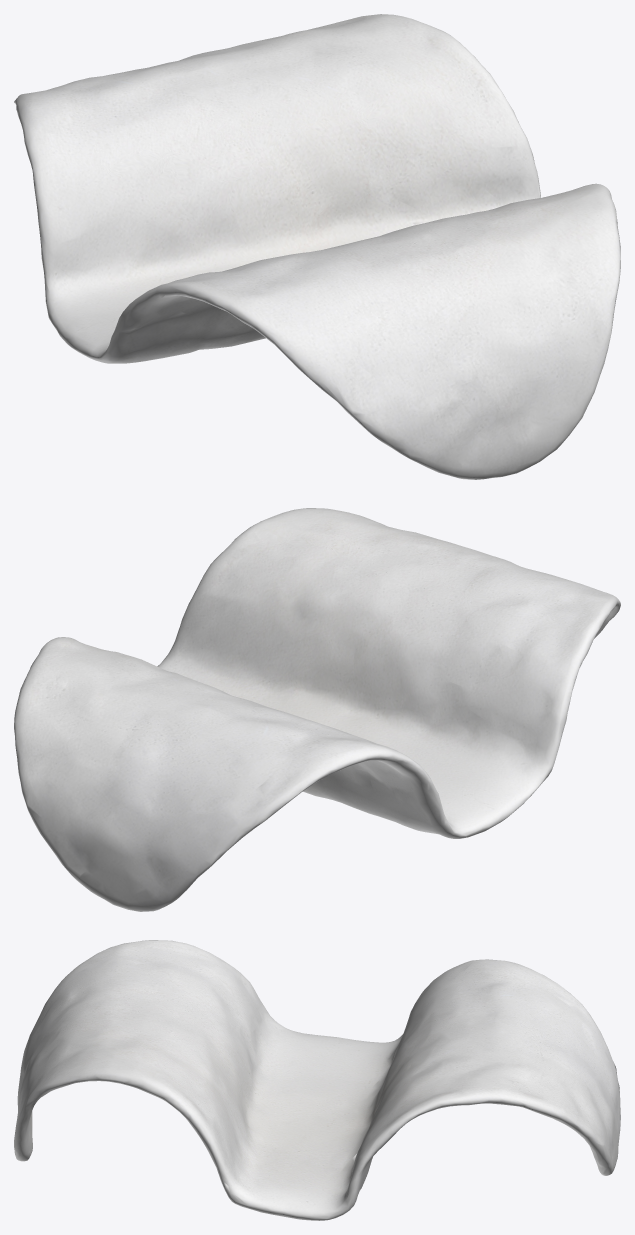
File: 12_panami.glb
The picture shows the model from 3 angles, top to bottom: view 1: azimuth 30°, elevation 25°; view 2: azimuth 150°, elevation 25°; view 3: azimuth 270°, elevation 25°; orthographic projection. The views are drawn at different scales.
Visible parts, largest first — view 1: Group53070; view 2: Group53070; view 3: Group53070.
Part boxes in pixels (x1,y1,x2,y2): Group53070: [14, 14, 620, 479]; Group53070: [14, 508, 620, 911]; Group53070: [14, 940, 620, 1220].
Size of the model in its own units: 3.31 by 1.23 by 4.65.
1 material, 1 textured.
